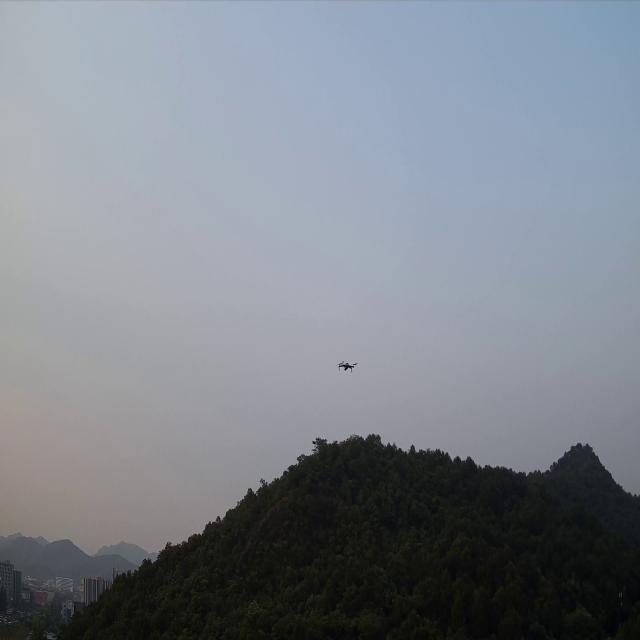UAV: (336, 360, 358, 373)
